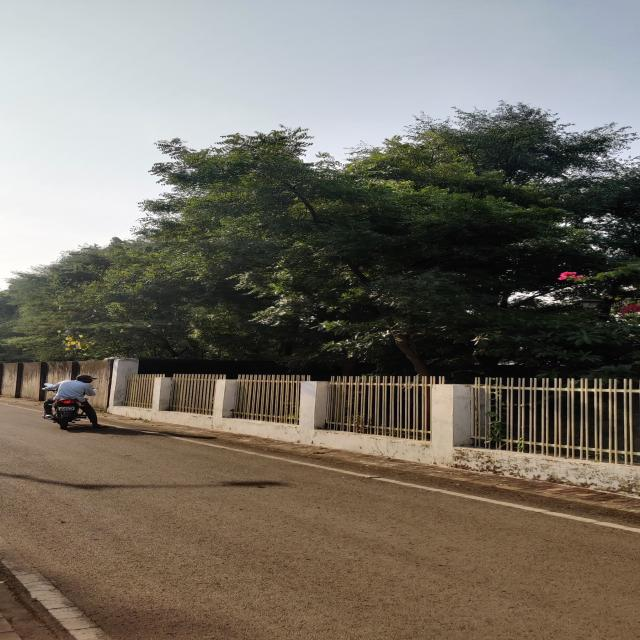Neem Tree: (162, 140, 514, 342)
